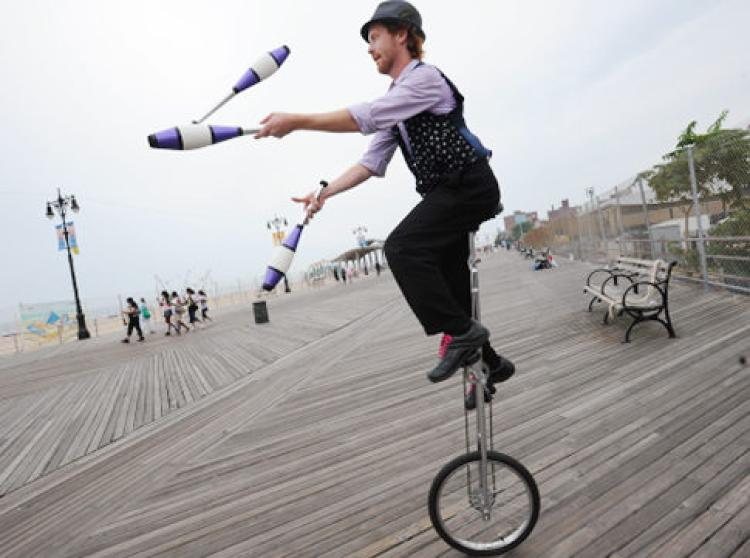uni cycle: (413, 180, 546, 556)
